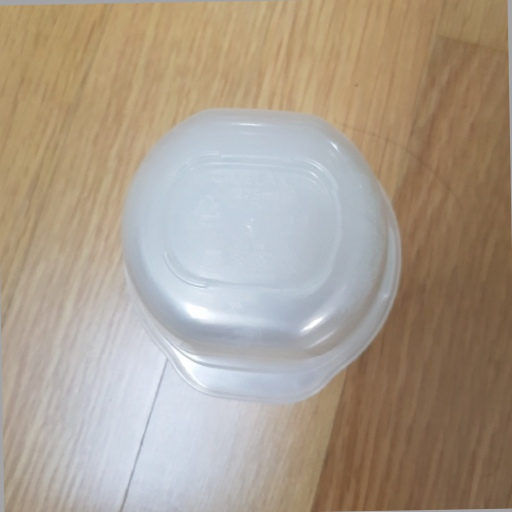Plastic_5: (115, 106, 403, 414)
